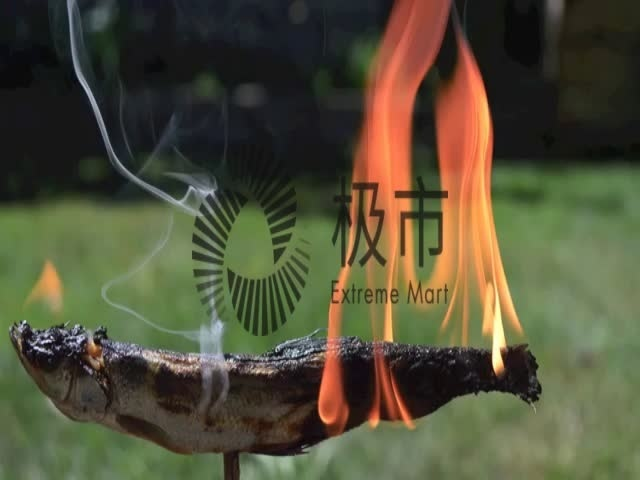fire: (336, 29, 543, 403), (21, 258, 66, 324)
